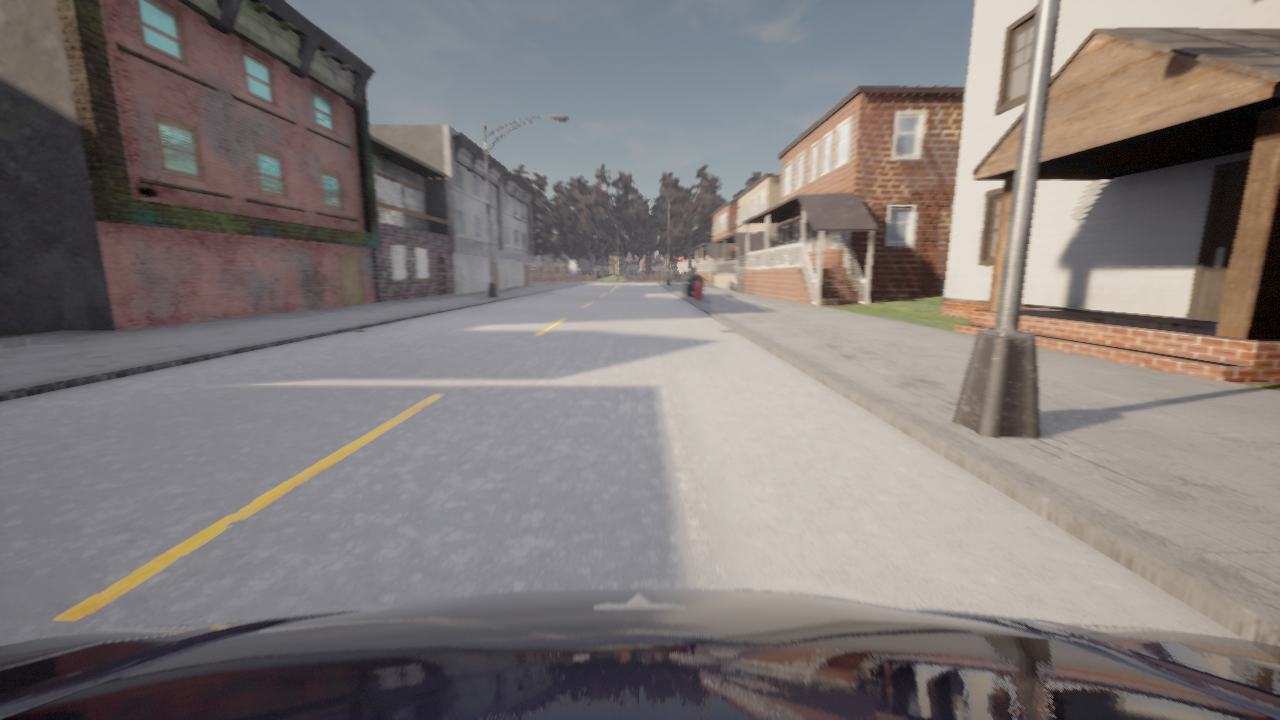cyclist: (0, 588, 1279, 719)
